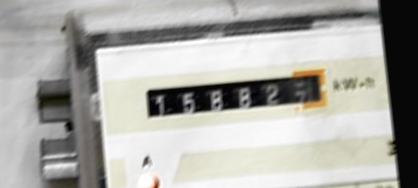1: (151, 92, 168, 116)
2: (262, 82, 280, 108)
5: (179, 89, 196, 116)
7: (292, 86, 306, 104)
8: (235, 85, 251, 111), (207, 88, 223, 113)
screen: (135, 60, 337, 136)
